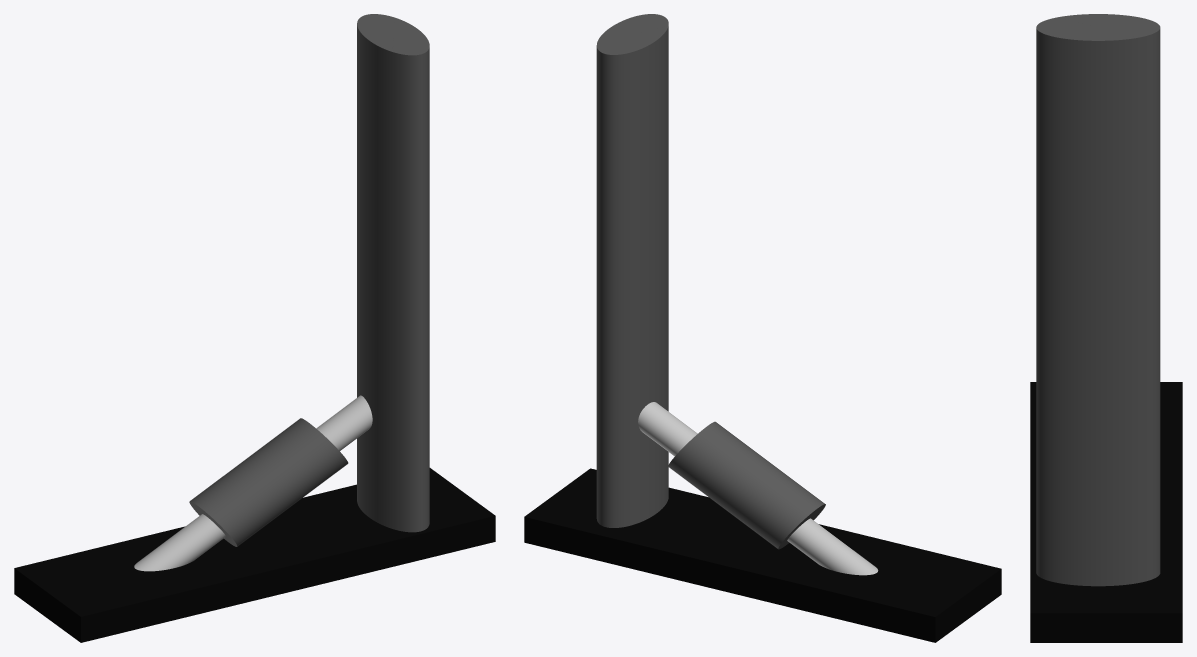
File: Prosthetic-Design-Overview.glb
3 renders of one model, left to right at view 1: azimuth 30°, elevation 25°; view 2: azimuth 150°, elevation 25°; view 3: azimuth 270°, elevation 25°, orthographic. The views are drawn at different scales.
Visible parts, largest first — view 1: mesh_id34, mesh_id36, mesh_id43, mesh_id41; view 2: mesh_id34, mesh_id36, mesh_id43, mesh_id41; view 3: mesh_id34, mesh_id36.
Part boxes in pixels (x1,y1,x2,y2): mesh_id34: [357, 14, 429, 532]; mesh_id36: [14, 468, 495, 642]; mesh_id43: [189, 418, 348, 546]; mesh_id41: [134, 395, 372, 571]; mesh_id34: [596, 14, 668, 527]; mesh_id36: [524, 468, 1001, 642]; mesh_id43: [668, 421, 825, 549]; mesh_id41: [638, 402, 878, 575]; mesh_id34: [1036, 14, 1160, 586]; mesh_id36: [1030, 382, 1182, 642].
Bounding box in the file's own units: 0.1711 × 0.1983 × 0.0477.
4 materials, 4 textured.
